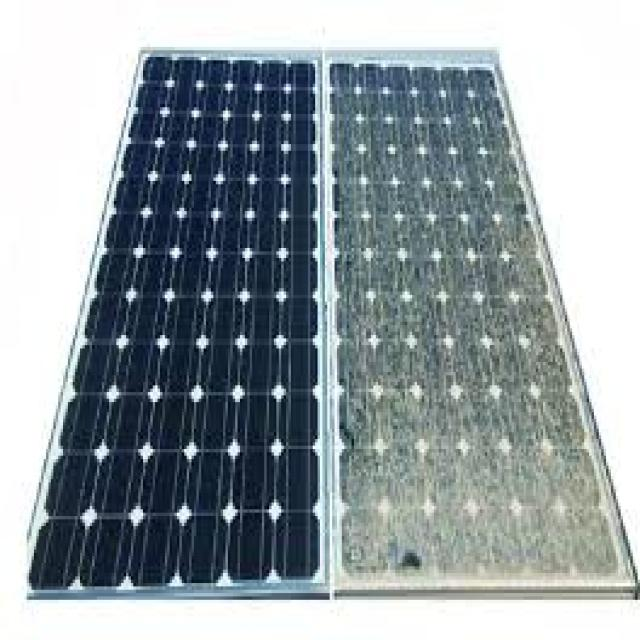faulty: (330, 64, 604, 601)
no faulty: (104, 59, 314, 582)
